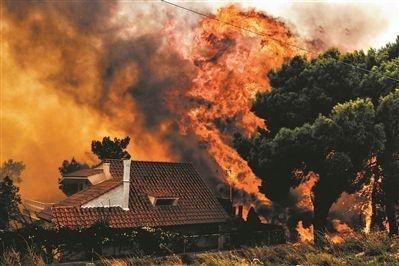fire: (179, 5, 378, 245)
